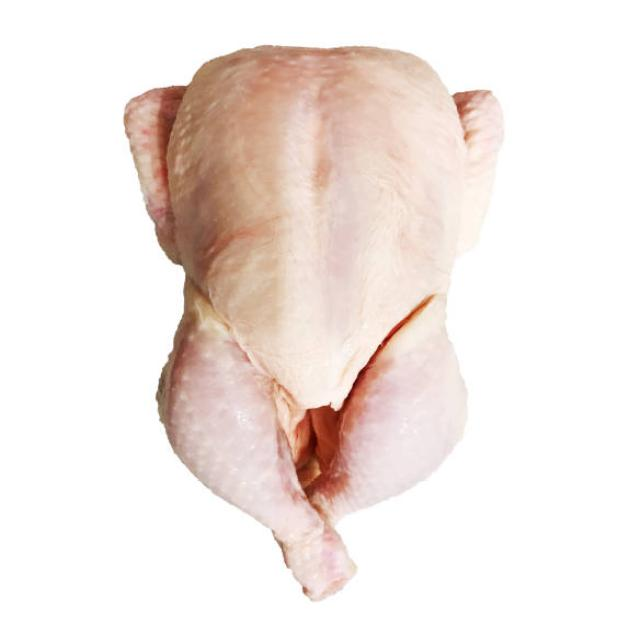Chicken: (114, 23, 526, 618)
